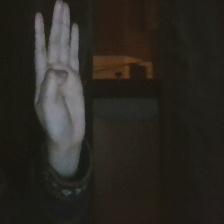B: (26, 1, 95, 154)
